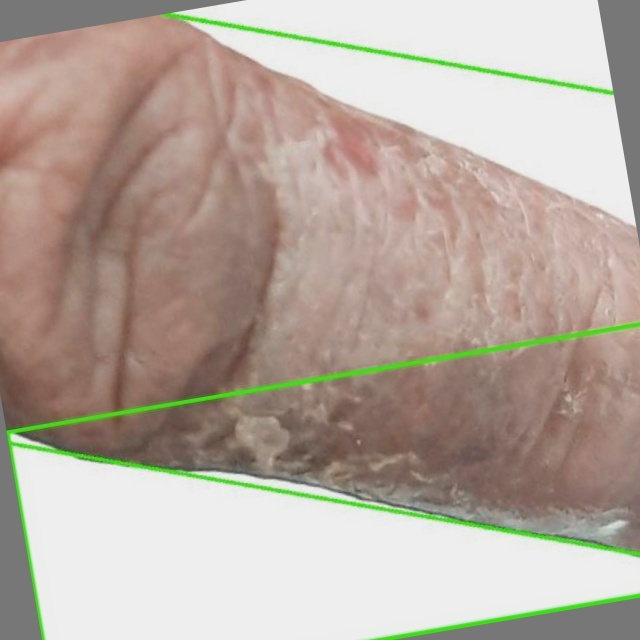Eczema: (0, 53, 639, 555), (7, 325, 639, 639)
